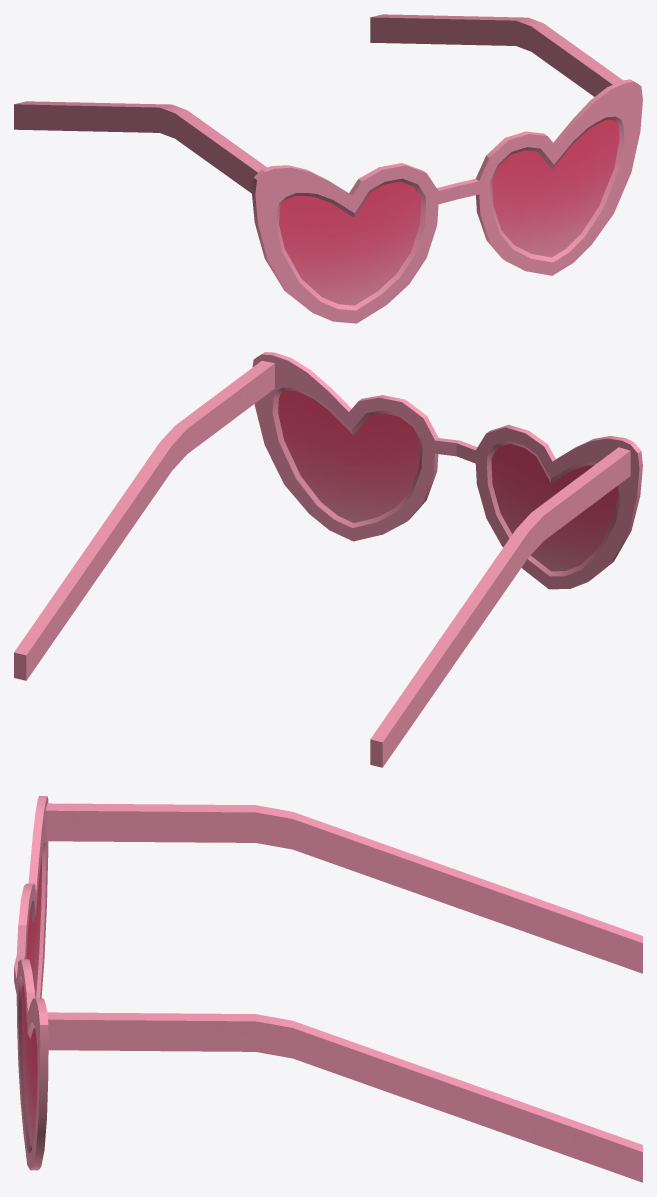
Rendered from heart_glasses.glb.
3 views of the same model, one above another, from view 1: azimuth 30°, elevation 25°; view 2: azimuth 150°, elevation 25°; view 3: azimuth 270°, elevation 25° (orthographic). The views are drawn at different scales.
Visible parts, largest first — view 1: Plane; view 2: Plane; view 3: Plane.
Part boxes in pixels (x1,y1,x2,y2): Plane: [14, 14, 642, 323]; Plane: [14, 352, 642, 767]; Plane: [14, 796, 642, 1182].
Bounding box in the file's own units: 12.63 × 5.31 × 14.77.
Materials: 1 (1 with a texture image).
